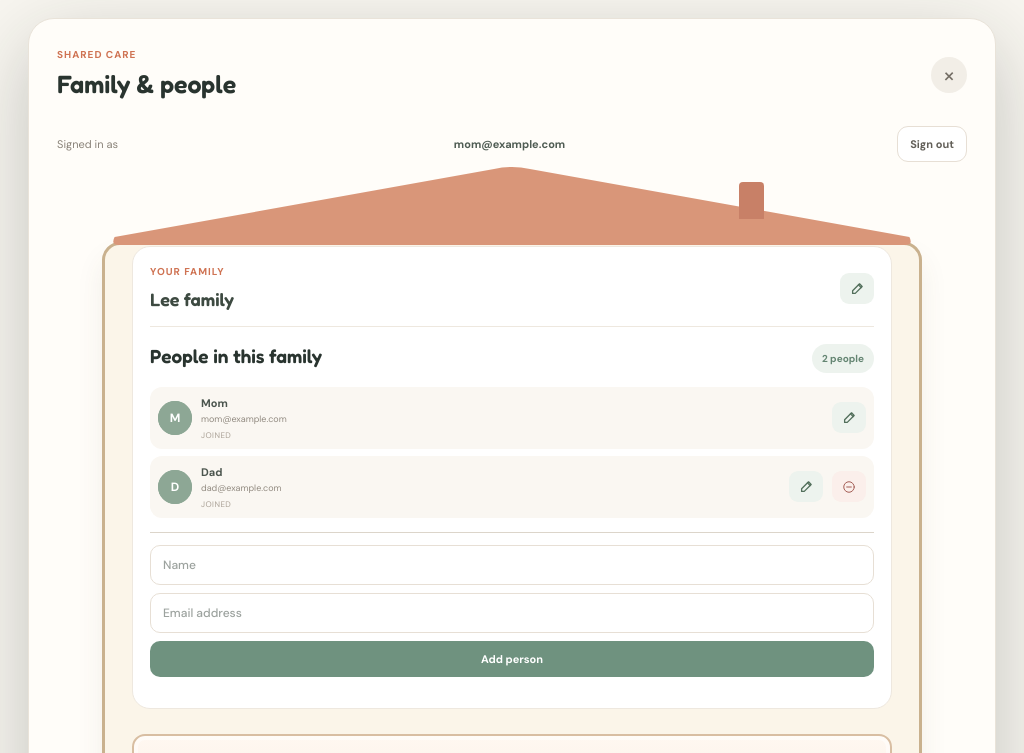
family release scope and workspace › lets any family member update a member's display name
Expected: the heading "People in this family" is shown, top-left (150, 342), bottom-right (322, 370)
Click the button named "Edit name for Dad" at [806, 486], box top-left (789, 471), bottom-right (823, 502)
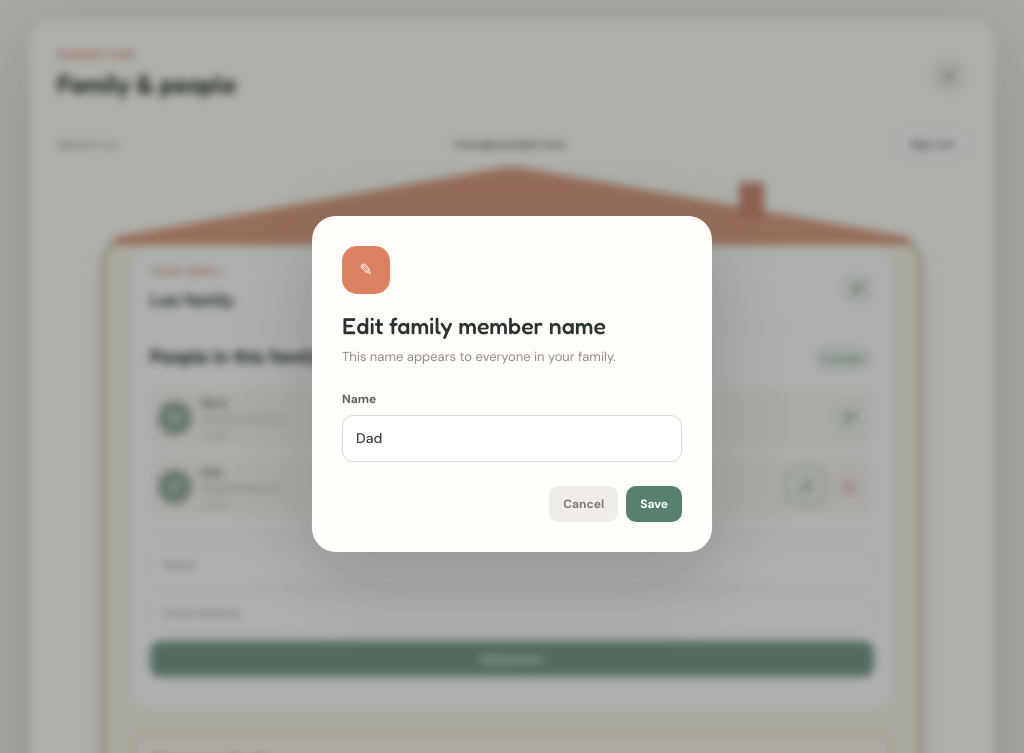
Replace the text in the field labelled "Name" with "Papa" at [512, 439], box top-left (342, 415), bottom-right (682, 462)
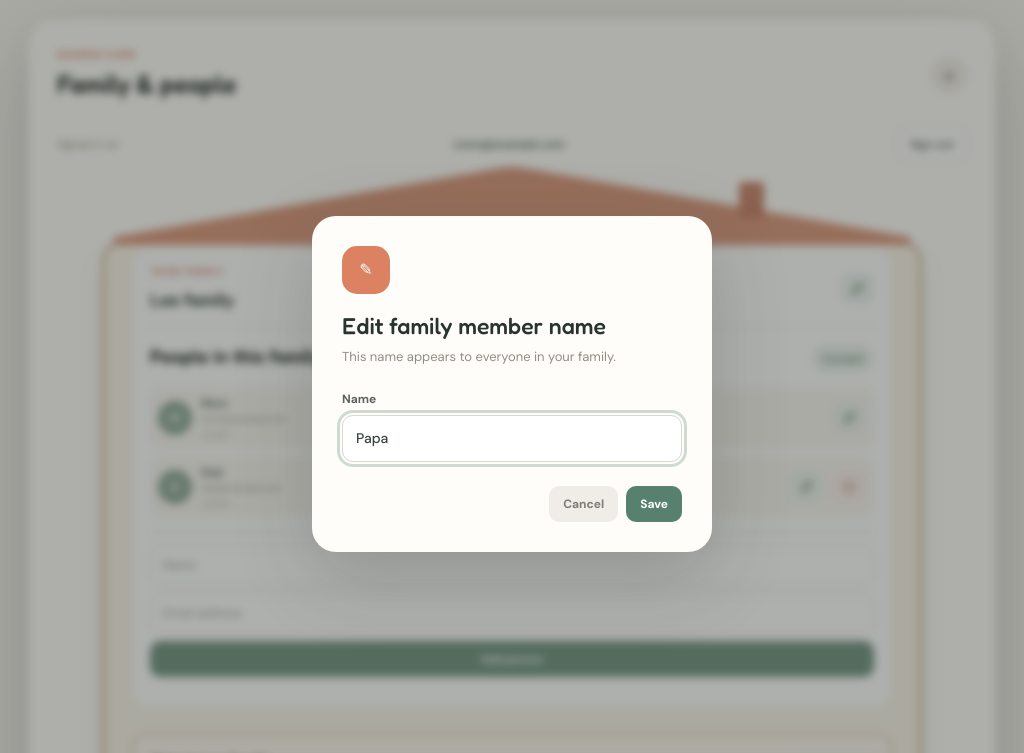
Click the button "Save" at [654, 504], box top-left (626, 486), bottom-right (682, 522)
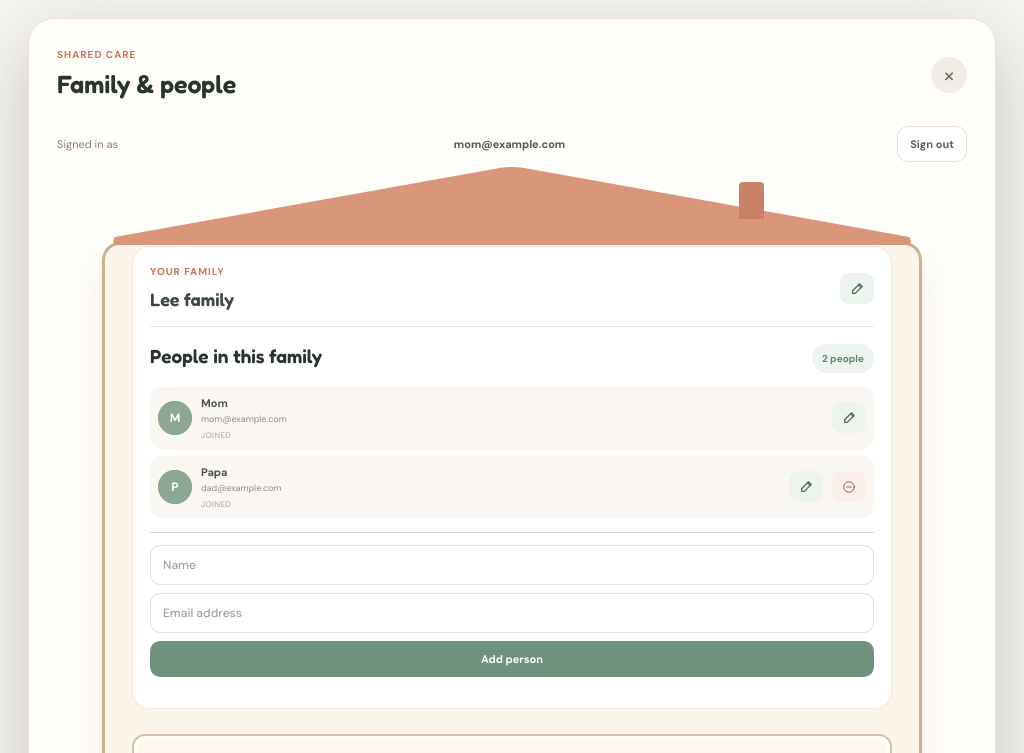
Expected: the text "Papa" is shown, top-left (201, 464), bottom-right (228, 478)
